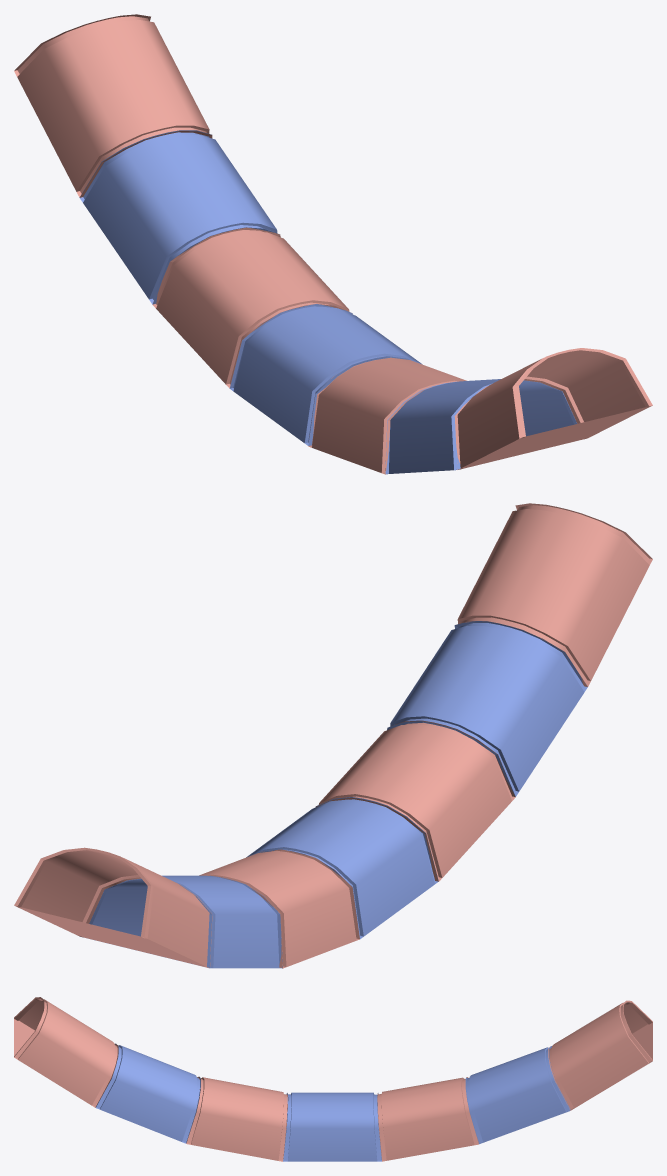
Rendered from RingTest.fbx.
3 renders of one model, top to bottom at view 1: azimuth 30°, elevation 25°; view 2: azimuth 150°, elevation 25°; view 3: azimuth 270°, elevation 25°, orthographic. The views are drawn at different scales.
Visible parts, largest first — view 1: Cylinder.020; view 2: Cylinder.020; view 3: Cylinder.020.
Part boxes in pixels (x1,y1,x2,y2): Cylinder.020: [14, 14, 652, 474]; Cylinder.020: [14, 503, 652, 968]; Cylinder.020: [14, 997, 652, 1161].
Size of the model in its own units: 13500 by 21634 by 91139.
